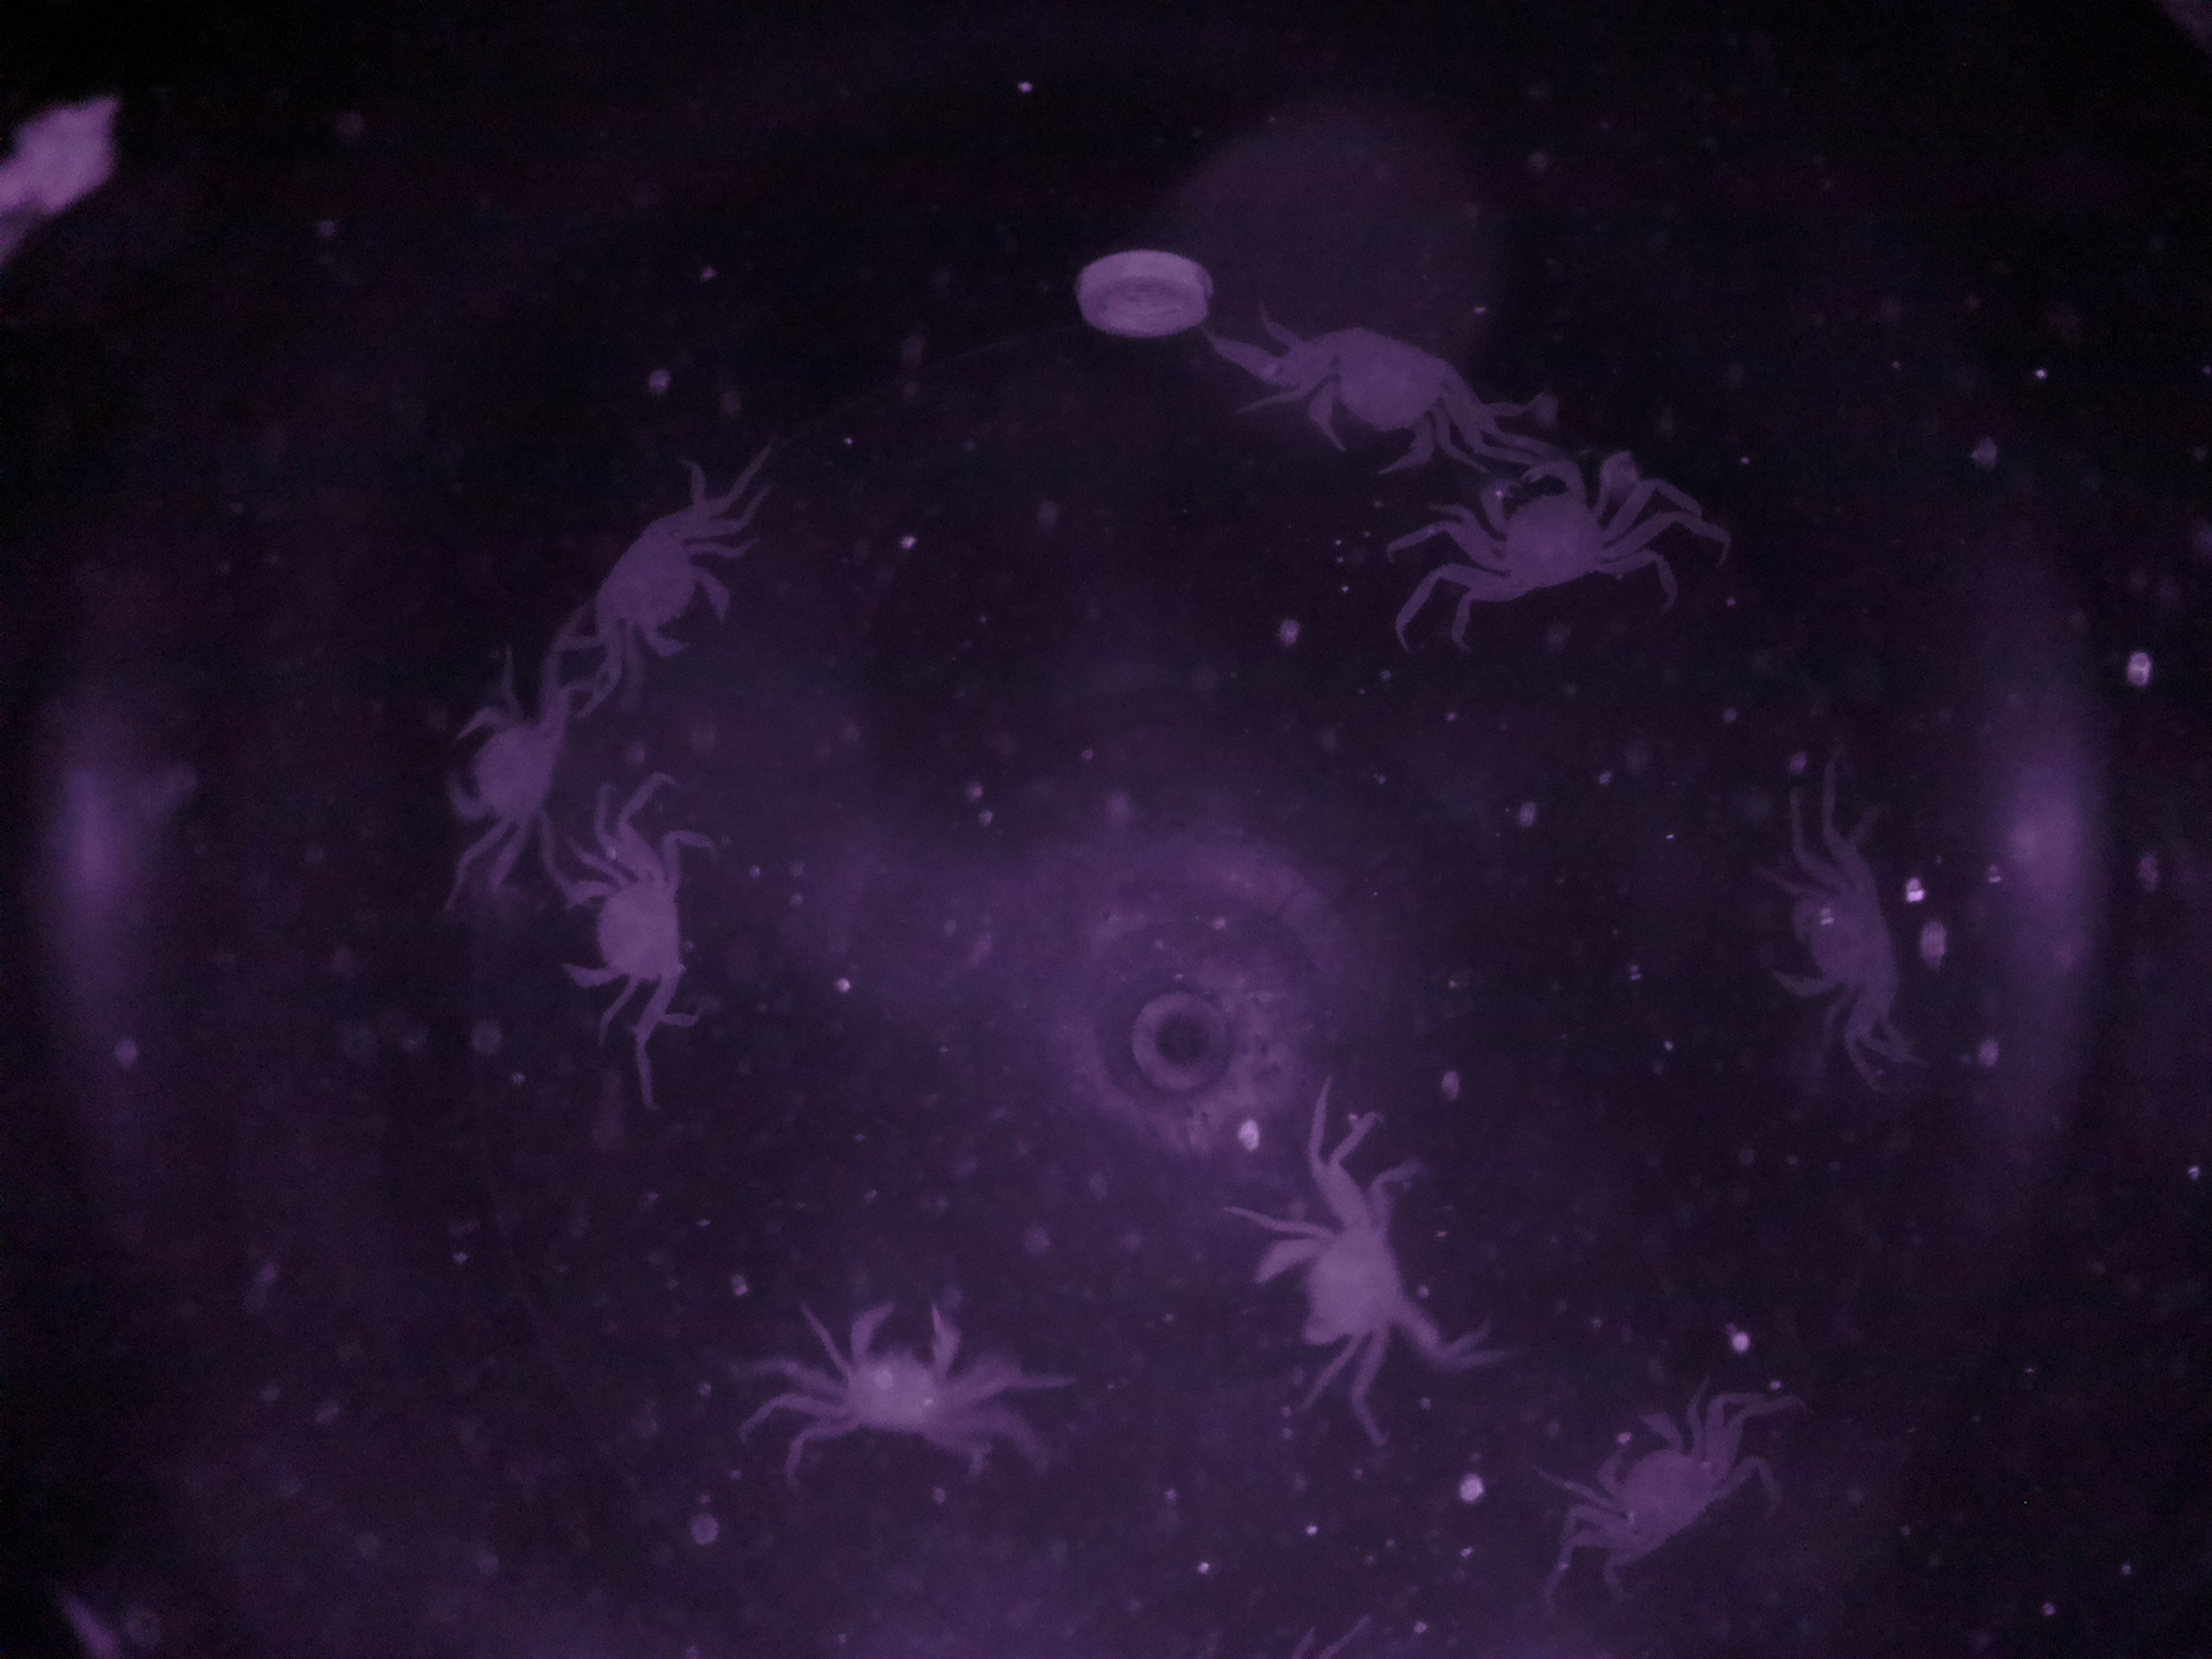Crab: (808, 1265, 989, 1486), (1280, 298, 1468, 497), (1451, 439, 1629, 643), (1764, 833, 1933, 1044), (542, 829, 709, 1039), (582, 491, 744, 674), (1575, 1394, 1735, 1575), (416, 692, 578, 859)
